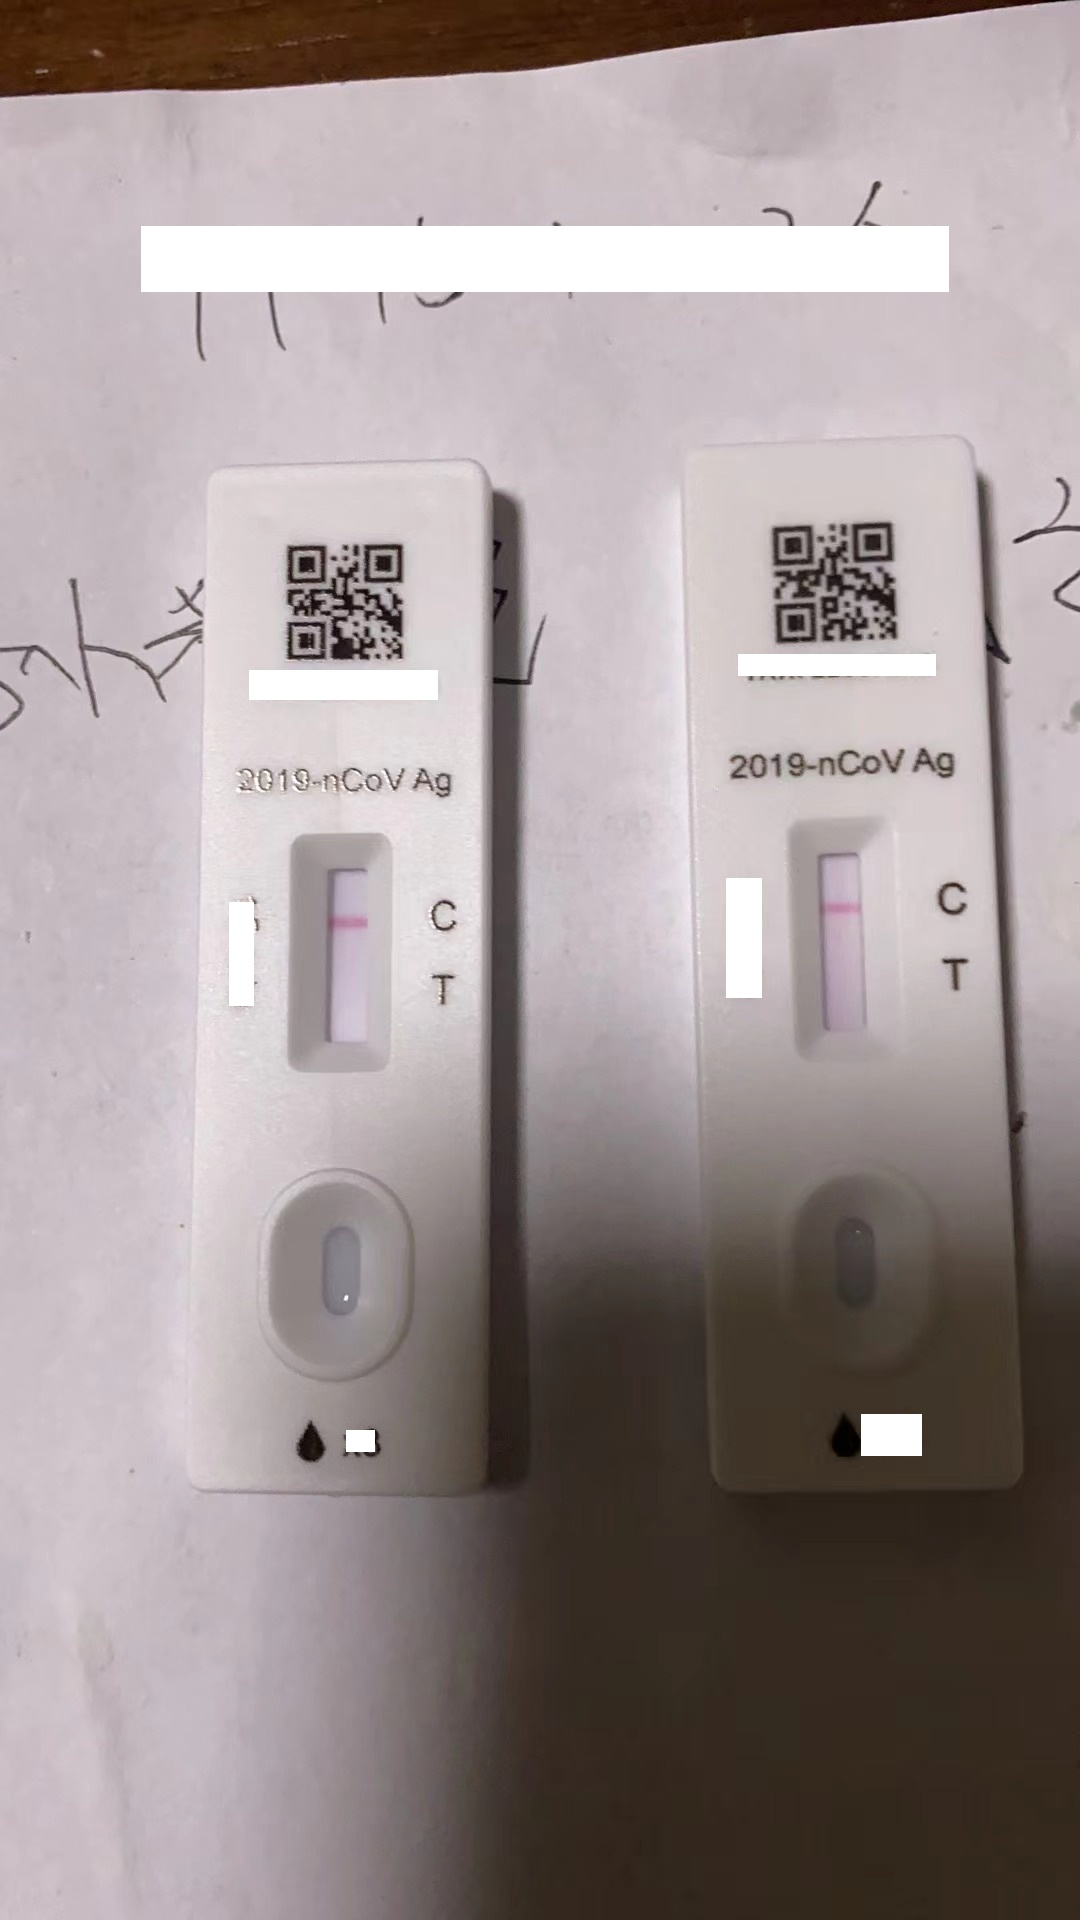negative: (789, 818, 894, 1073), (290, 829, 388, 1076)
